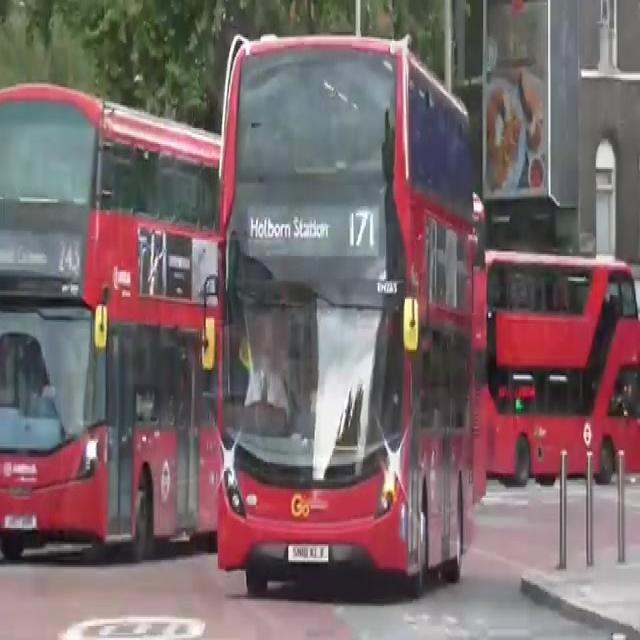bus: (224, 63, 494, 568), (1, 62, 223, 572), (491, 255, 640, 477)
